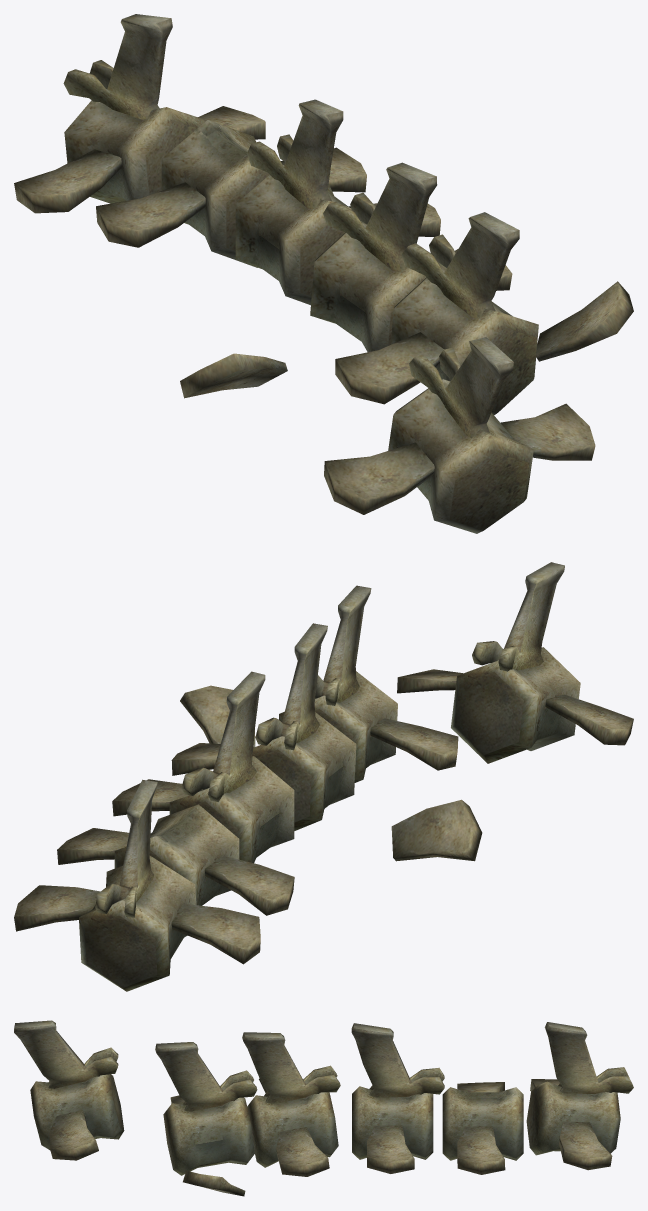
Rendered from bone_whale_vertebra00.fbx.
3 views of the same model, one above another, from view 1: azimuth 30°, elevation 25°; view 2: azimuth 150°, elevation 25°; view 3: azimuth 270°, elevation 25° (orthographic). The views are drawn at different scales.
Parts seen in each view (by area): view 1: bone_whale_vertebra00; view 2: bone_whale_vertebra00; view 3: bone_whale_vertebra00.
Part boxes in pixels (<box>): bone_whale_vertebra00: <box>14,14,633,533</box>; bone_whale_vertebra00: <box>14,562,633,991</box>; bone_whale_vertebra00: <box>14,1020,633,1196</box>.
Bounding box in the file's own units: 8.55 × 4.75 × 17.24.
